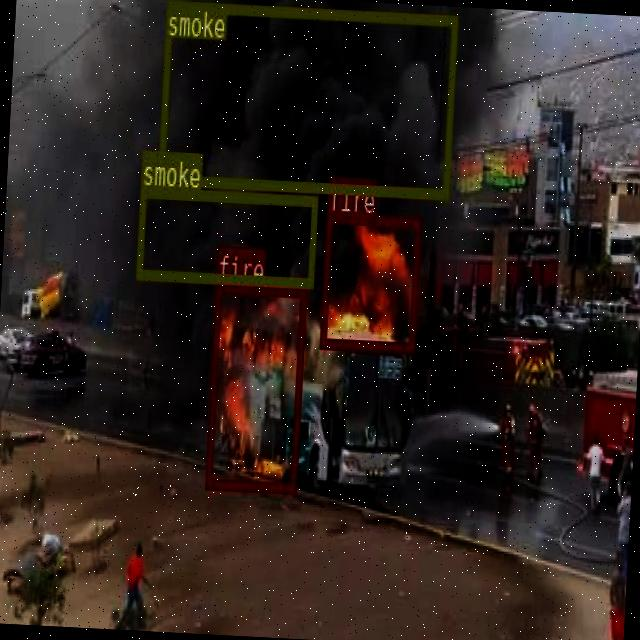fire: (205, 282, 306, 490), (318, 212, 419, 351)
smoke: (157, 0, 456, 198), (134, 184, 318, 286)
